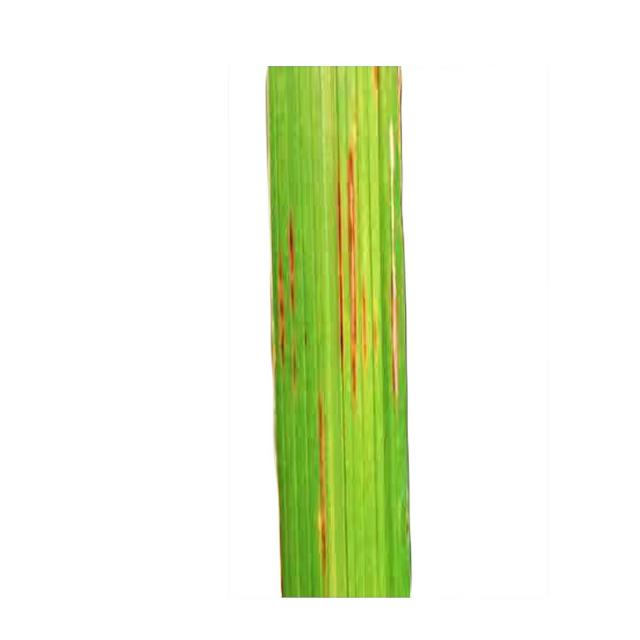Narrow brown: (232, 53, 436, 606)
